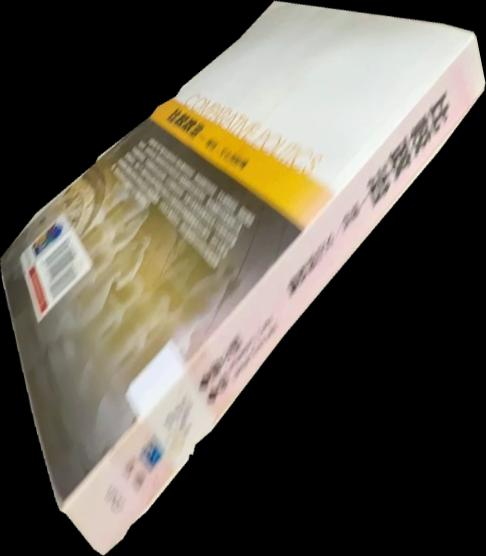flat: (1, 1, 486, 556)
